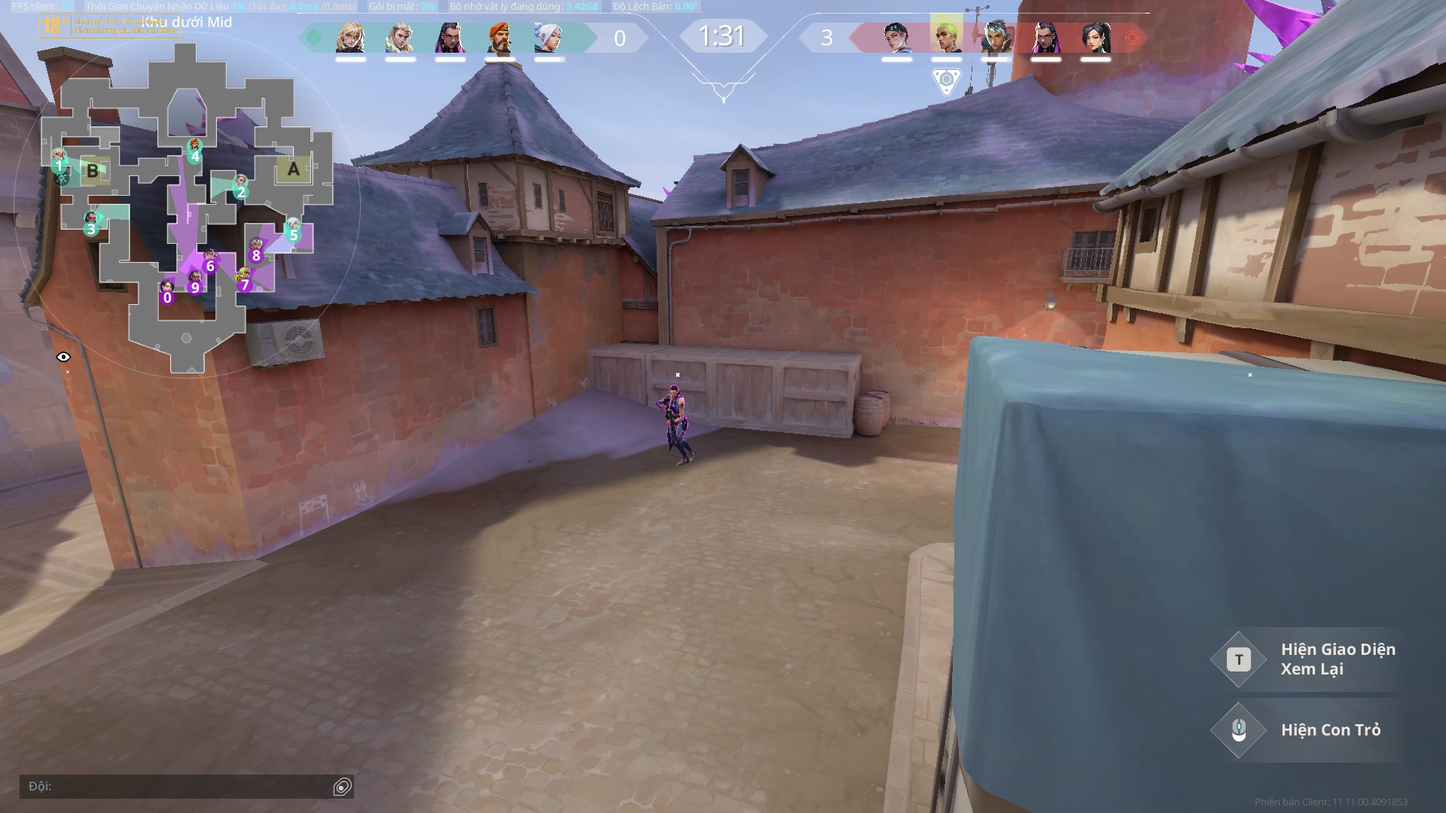body: (664, 393, 685, 419)
head: (668, 386, 680, 396)
